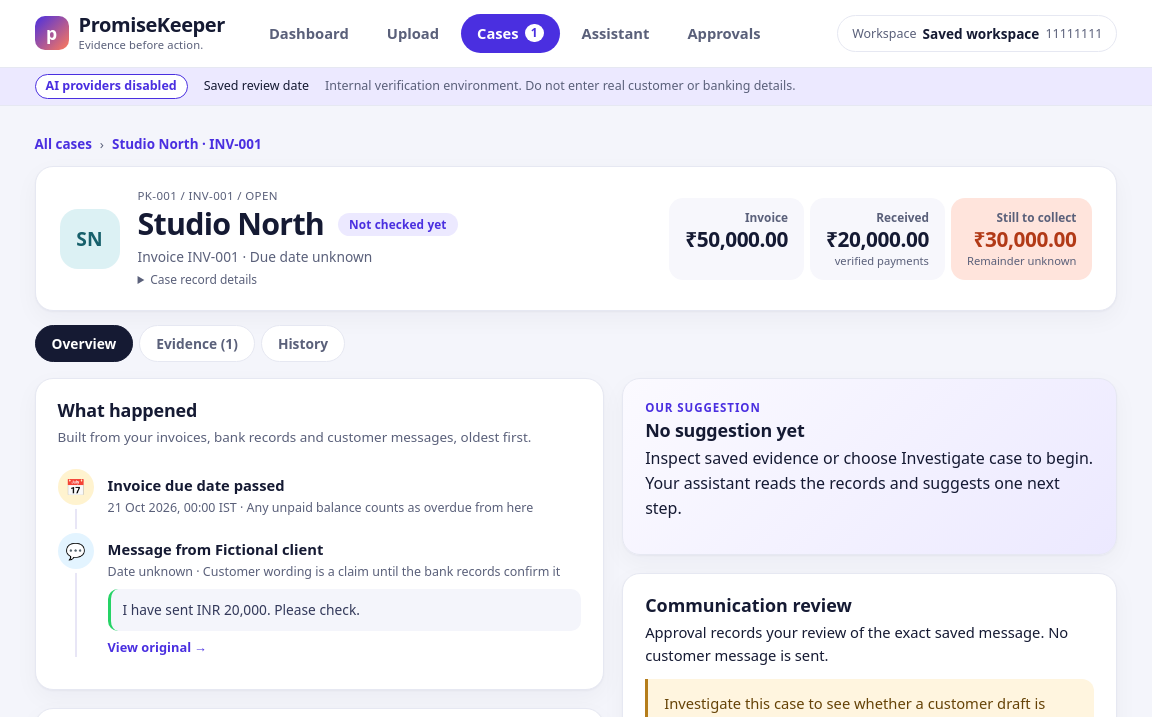
switching workspace from a case page returns to the Cases list of the new workspace
Expected: the heading "Studio North" is shown, [138,207,324,242]
Click the button "Workspace Saved workspace 11111111" at (977, 33), box [837,15,1118,52]
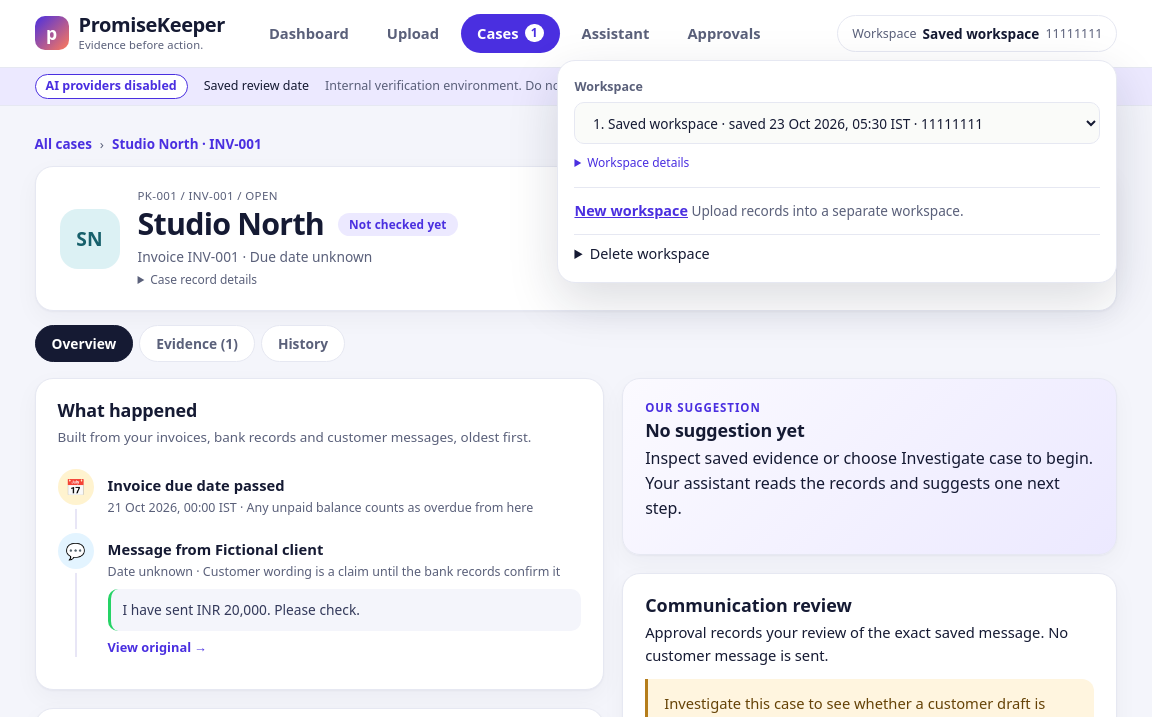
Expected: the heading "Delete workspace" is shown, [590,244,710,263]
Select "2. Saved workspace · saved 23 Oct 2026, 05:30 IST · 77777777" in the dropdown labelled "Workspace" at (838, 123), box [574,102,1100,144]
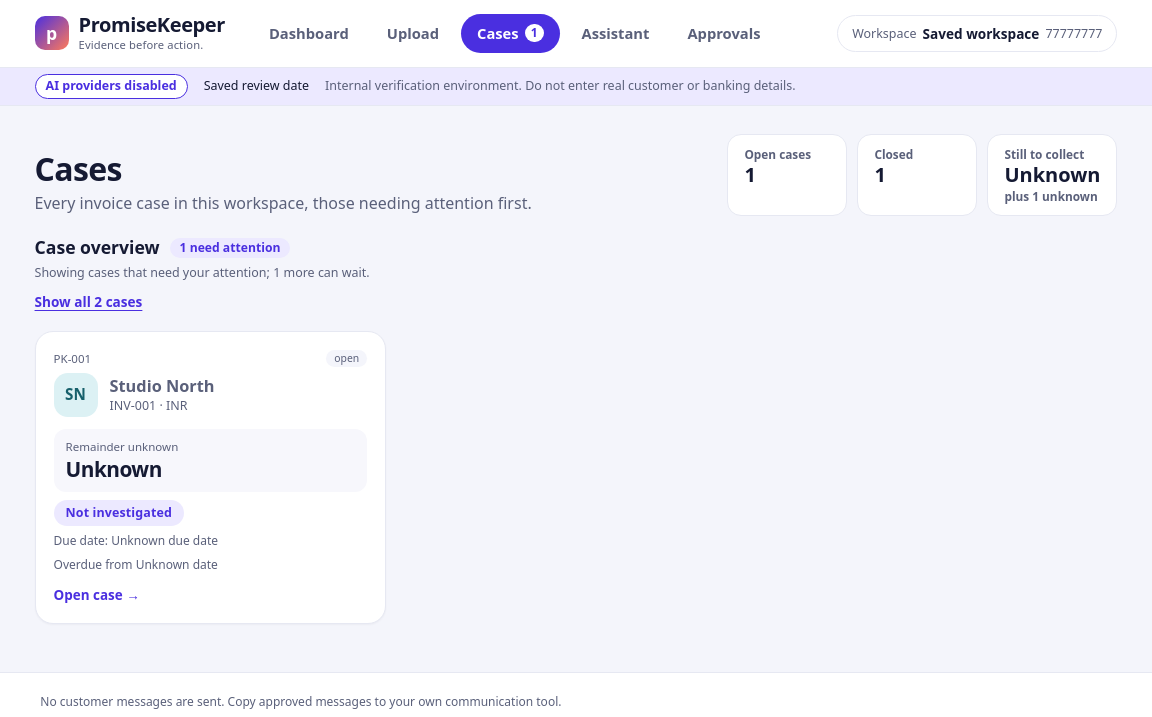
Expected: the heading "Cases" is shown, [34,147,122,190]
Expected: the button "Workspace Saved workspace 77777777" is collapsed, [837,15,1118,52]
